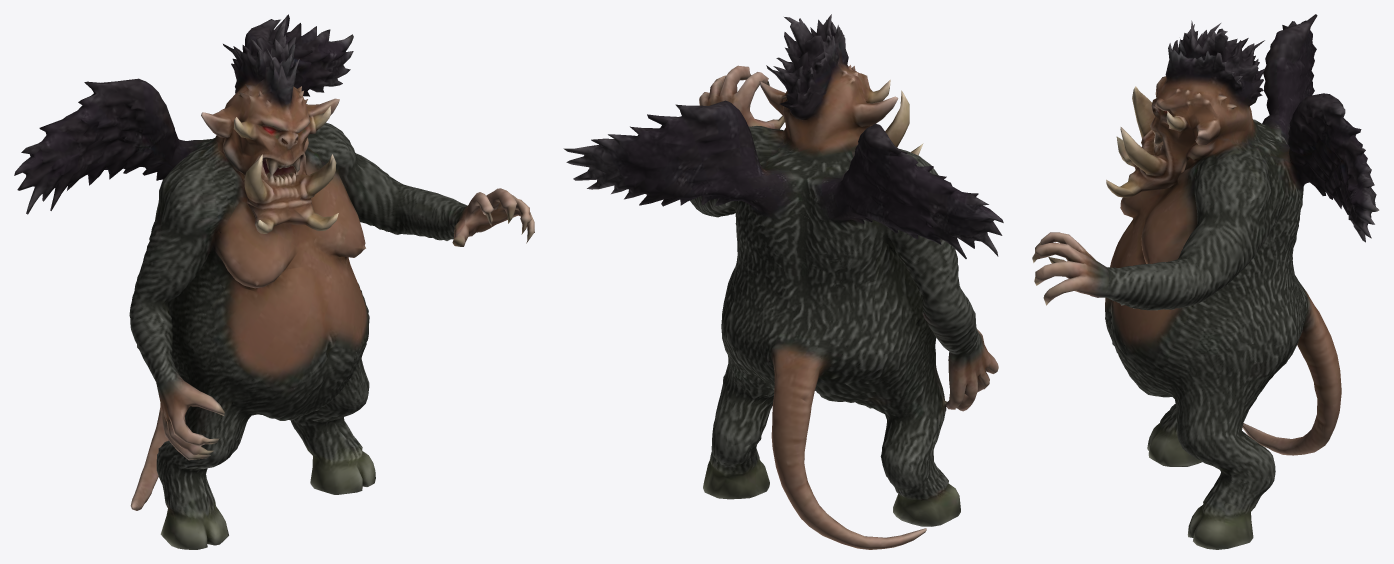
File: MZ4250 - Nalfeshnee.glb
3 renders of one model, left to right at view 1: azimuth 30°, elevation 25°; view 2: azimuth 150°, elevation 25°; view 3: azimuth 270°, elevation 25°, orthographic.
Parts seen in each view (by area): view 1: gpnalfeshnee01; view 2: gpnalfeshnee01; view 3: gpnalfeshnee01.
Boxes of the visible parts, x1,y1,x2,y2 form: gpnalfeshnee01: (14, 14, 534, 549); gpnalfeshnee01: (563, 14, 1003, 549); gpnalfeshnee01: (1032, 14, 1379, 549).
Bounding box in the file's own units: 0.9427 × 1.06 × 0.6933.
1 material, 1 textured.
